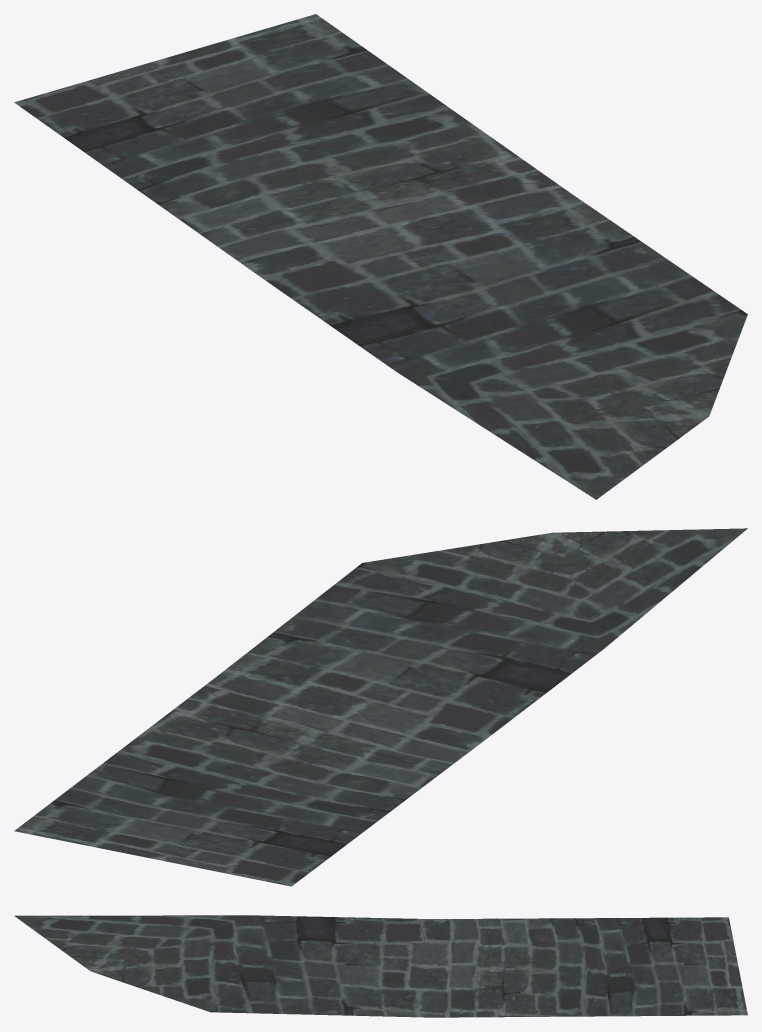
The model's file is blend_brick04.fbx.
3 renders of one model, top to bottom at view 1: azimuth 30°, elevation 25°; view 2: azimuth 150°, elevation 25°; view 3: azimuth 270°, elevation 25°, orthographic. The views are drawn at different scales.
Visible parts, largest first — view 1: obj0.003; view 2: obj0.003; view 3: obj0.003.
Boxes of the visible parts, x1,y1,x2,y2 form: obj0.003: (14, 14, 747, 499); obj0.003: (14, 528, 747, 886); obj0.003: (14, 915, 747, 1017).
Size of the model in its own units: 2.54 by 0.0837 by 7.85.
